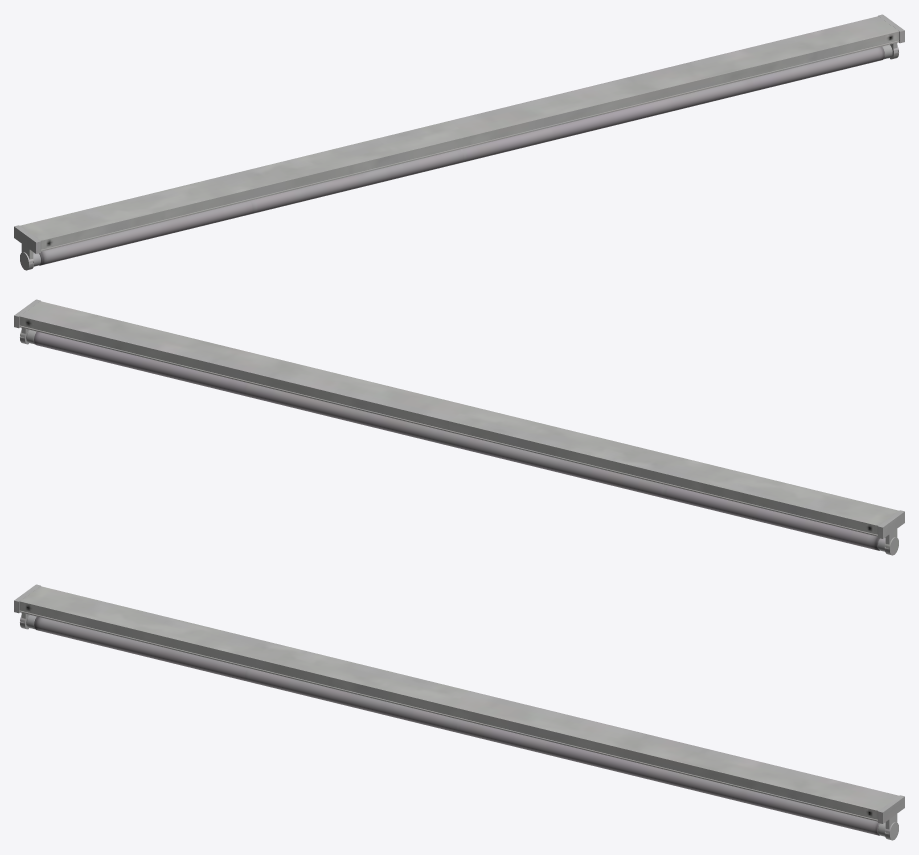
File: mounted_fluorescent_lights.glb
3 renders of one model, top to bottom at view 1: azimuth 30°, elevation 25°; view 2: azimuth 150°, elevation 25°; view 3: azimuth 330°, elevation 25°, orthographic.
Parts seen in each view (by area): view 1: mounted_fluorescent_lights_a; view 2: mounted_fluorescent_lights_a; view 3: mounted_fluorescent_lights_a.
Boxes of the visible parts, x1=… form: mounted_fluorescent_lights_a: x1=14, y1=14, x2=904, y2=270; mounted_fluorescent_lights_a: x1=14, y1=299, x2=904, y2=555; mounted_fluorescent_lights_a: x1=14, y1=584, x2=904, y2=840.
Bounding box in the file's own units: 0.9122 × 0.0353 × 0.0402.
2 materials, 2 textured.
